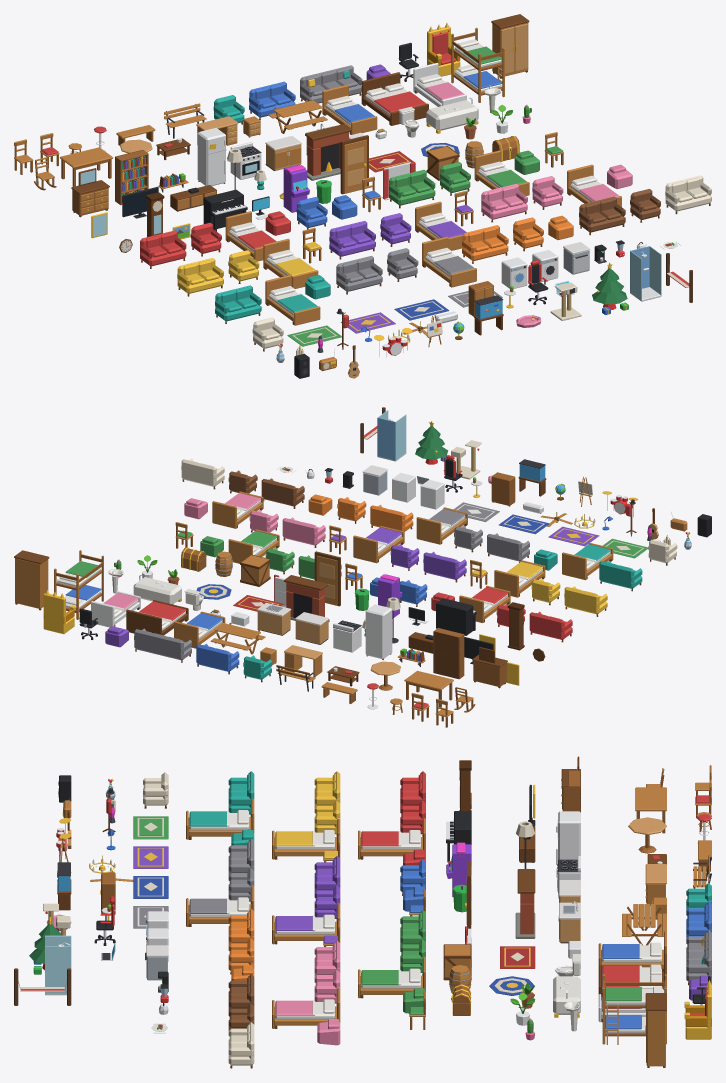
The model's file is Furniture.fbx.
3 views of the same model, one above another, from view 1: azimuth 30°, elevation 25°; view 2: azimuth 150°, elevation 25°; view 3: azimuth 270°, elevation 25° (orthographic). The views are drawn at different scales.
Parts seen in each view (by area): view 1: BunkBed, DoubleBed, Wardrobe, Fireplace, TealBed, GrayBed, Bed, Shower, Fridge, Door, YellowBed, Bookshelf (+53 smaller); view 2: BunkBed, Wardrobe, DoubleBed, Bookshelf, Fireplace, Fridge, Shower, GrayBed, PinkBed, PurpleBed, TealBed, Piano (+49 smaller); view 3: BunkBed, PinkBed, TealBed, YellowBed, RedBed, PurpleBed, GreenBed, GrayBed, Bed, Wardrobe, Shower, DoubleBed (+51 smaller).
Boxes of the visible parts, <box> form: BunkBed: <box>451,27,504,102</box>; DoubleBed: <box>361,72,428,125</box>; Wardrobe: <box>491,14,529,78</box>; Fireplace: <box>305,124,351,180</box>; TealBed: <box>265,275,320,325</box>; GrayBed: <box>422,236,476,287</box>; Bed: <box>322,84,377,134</box>; Shower: <box>630,246,661,301</box>; Fridge: <box>197,128,226,185</box>; Door: <box>340,135,368,194</box>; YellowBed: <box>263,238,318,288</box>; Bookshelf: <box>115,150,148,205</box>; BunkBed: <box>54,550,103,619</box>; Wardrobe: <box>14,550,49,610</box>; DoubleBed: <box>126,600,188,635</box>; Bookshelf: <box>433,628,464,679</box>; Fireplace: <box>284,575,329,621</box>; Fridge: <box>365,604,392,659</box>; Shower: <box>377,410,406,461</box>; GrayBed: <box>416,507,467,544</box>; PinkBed: <box>212,491,263,528</box>; PurpleBed: <box>353,526,404,563</box>; TealBed: <box>562,542,613,580</box>; Piano: <box>436,598,476,635</box>; BunkBed: <box>602,974,666,1044</box>; PinkBed: <box>272,988,340,1028</box>; TealBed: <box>186,798,254,839</box>; YellowBed: <box>272,818,340,859</box>; RedBed: <box>358,818,425,859</box>; PurpleBed: <box>272,903,340,944</box>; GreenBed: <box>358,957,425,998</box>; GrayBed: <box>186,886,254,926</box>; Bed: <box>598,931,666,971</box>; Wardrobe: <box>645,993,666,1067</box>; Shower: <box>45,935,71,995</box>; DoubleBed: <box>598,953,666,1000</box>.
Size of the model in its own units: 72.9 by 9.8 by 79.06.
Materials: 1 (1 with a texture image).
